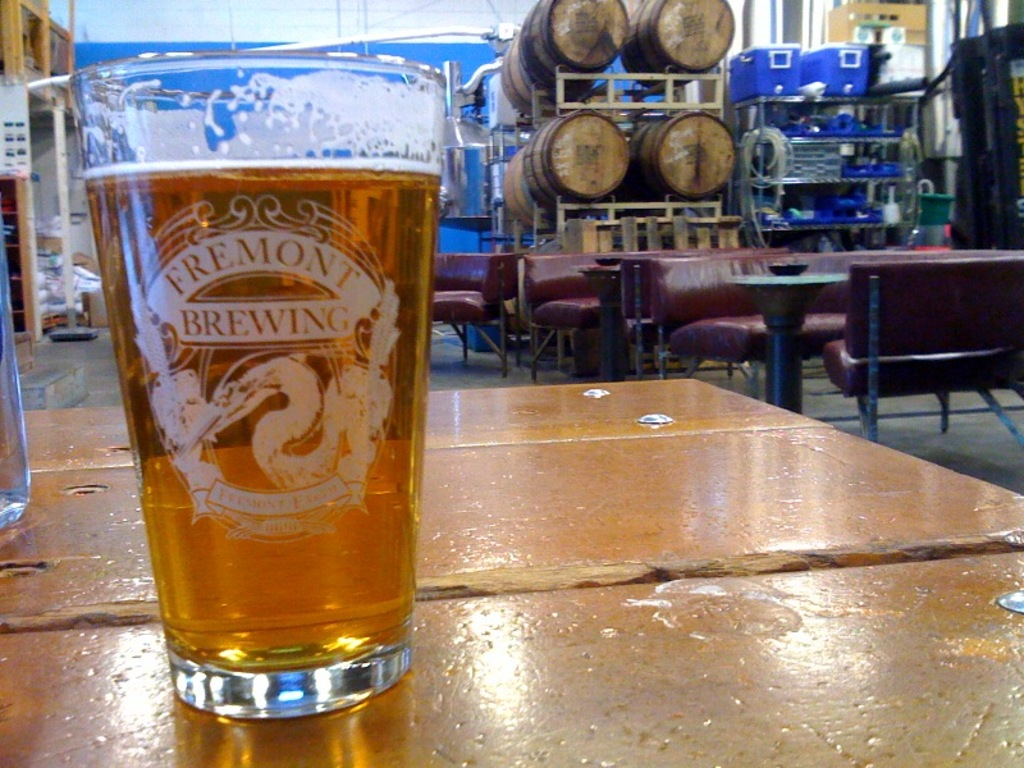Beer: (78, 152, 435, 675)
